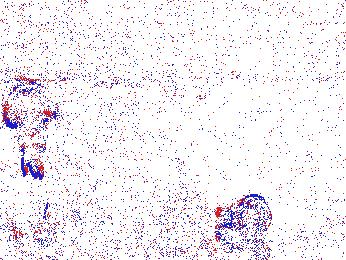flame jellyfish: (3, 82, 60, 179), (37, 199, 84, 253), (216, 195, 273, 239)
